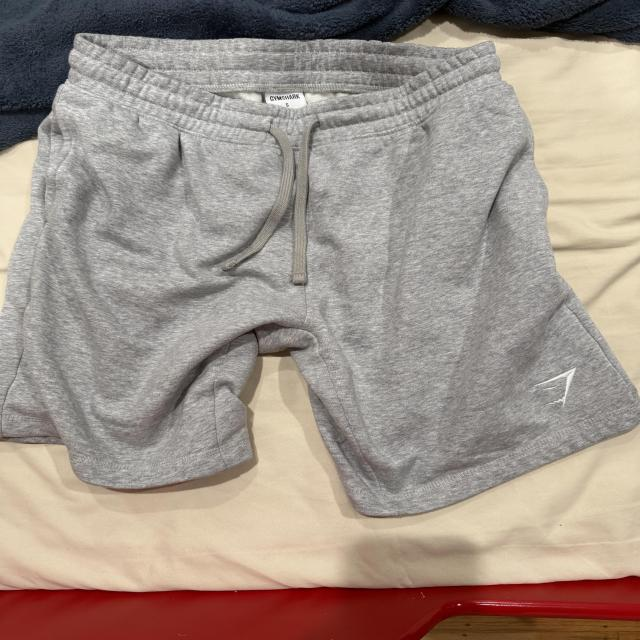back_tag: (245, 84, 325, 114)
